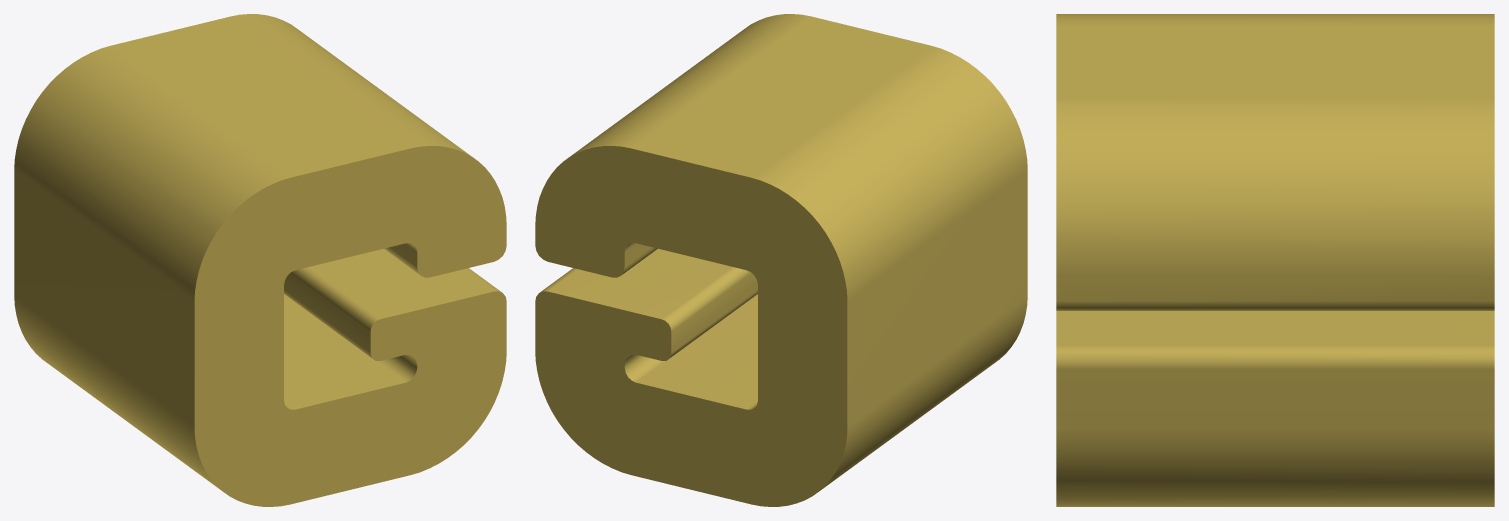
The picture shows the model from 3 angles, left to right: view 1: azimuth 30°, elevation 25°; view 2: azimuth 150°, elevation 25°; view 3: azimuth 270°, elevation 25°; orthographic projection. The views are drawn at different scales.
Bounding box in the file's own units: 50 × 50 × 50.
